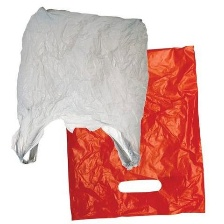plastic_bag: (61, 43, 209, 223), (6, 3, 155, 173)
